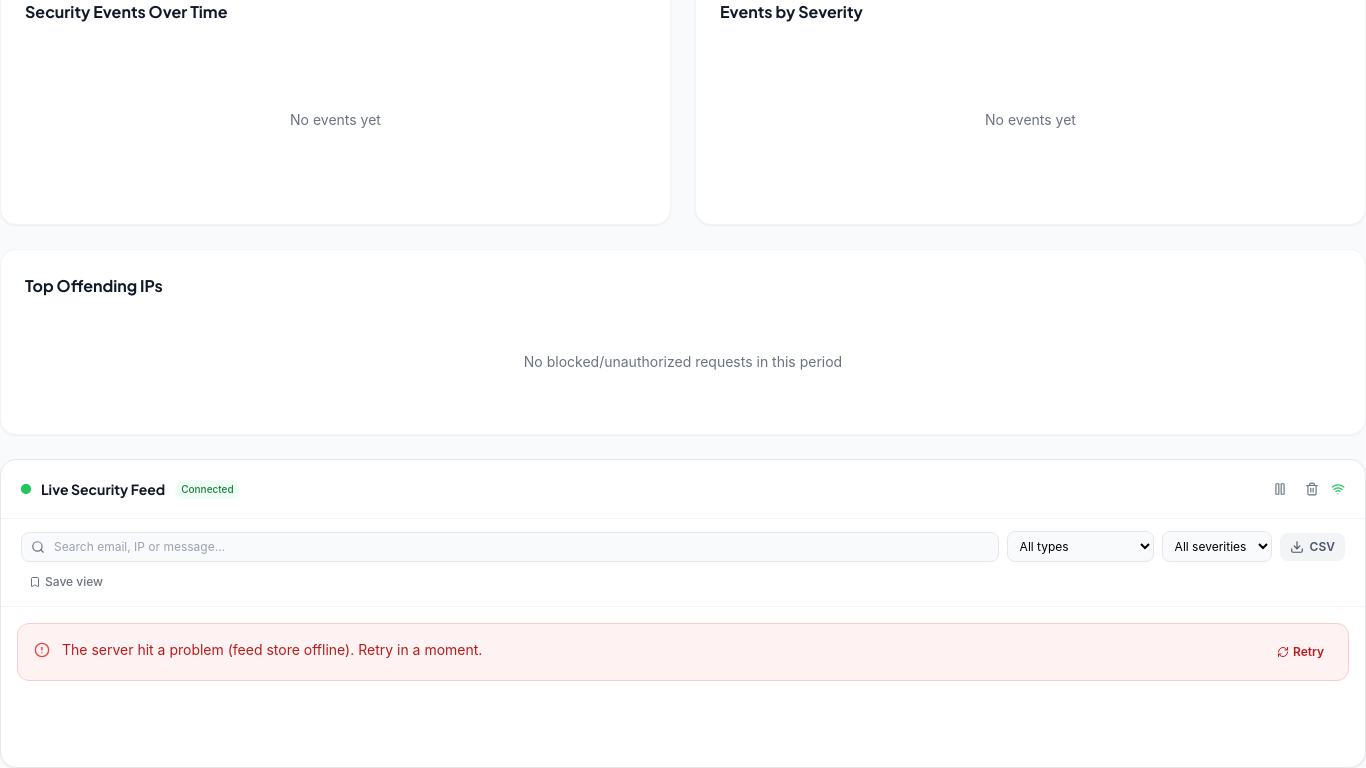
OverviewTab › shows why the live feed could not load, with a retry, instead of an empty feed
The width and height of the screenshot is (1366, 768).
(page scrolled)
Expected: the text "feed store offline" is shown, [62,641,482,658]
Click the button "Retry": [1300, 652] box [1269,640,1332,664]
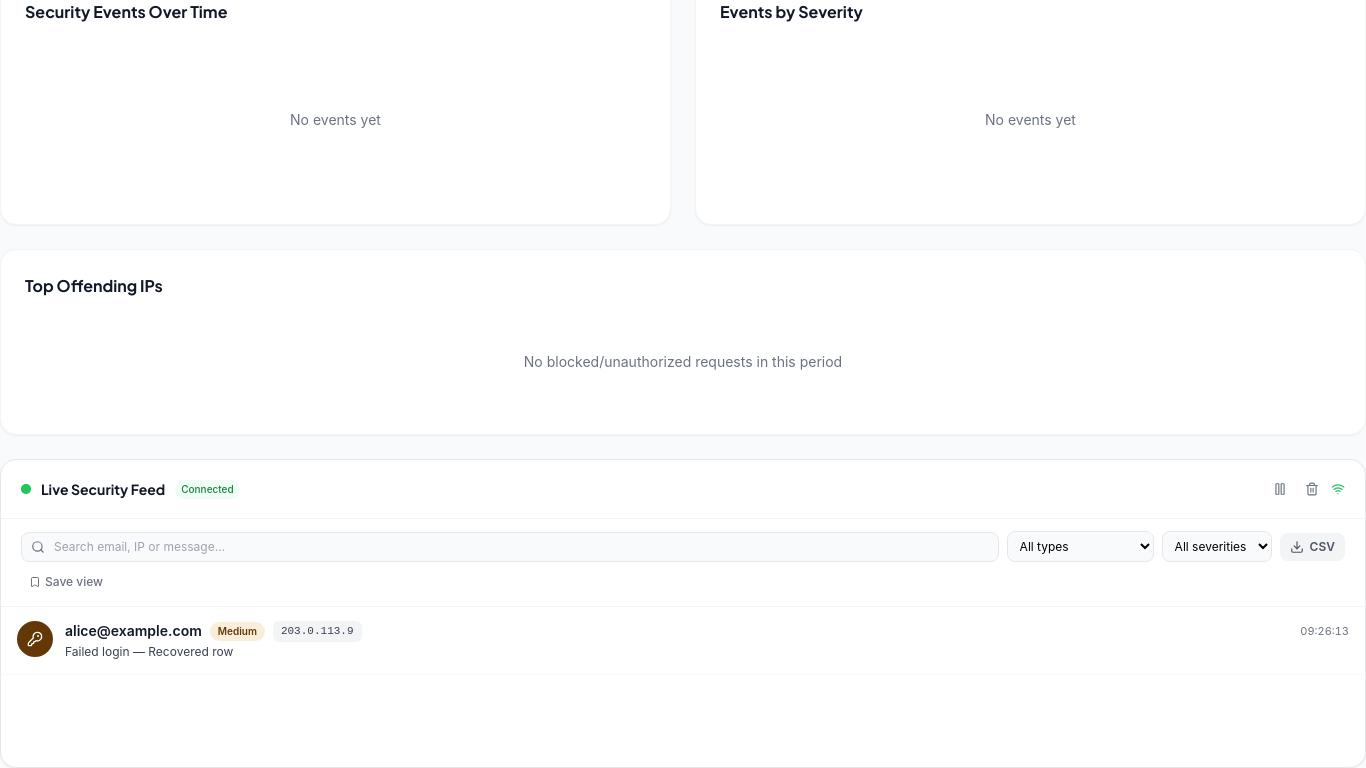
Expected: the text "Failed login — Recovered row" is shown, [65,644,233,658]
